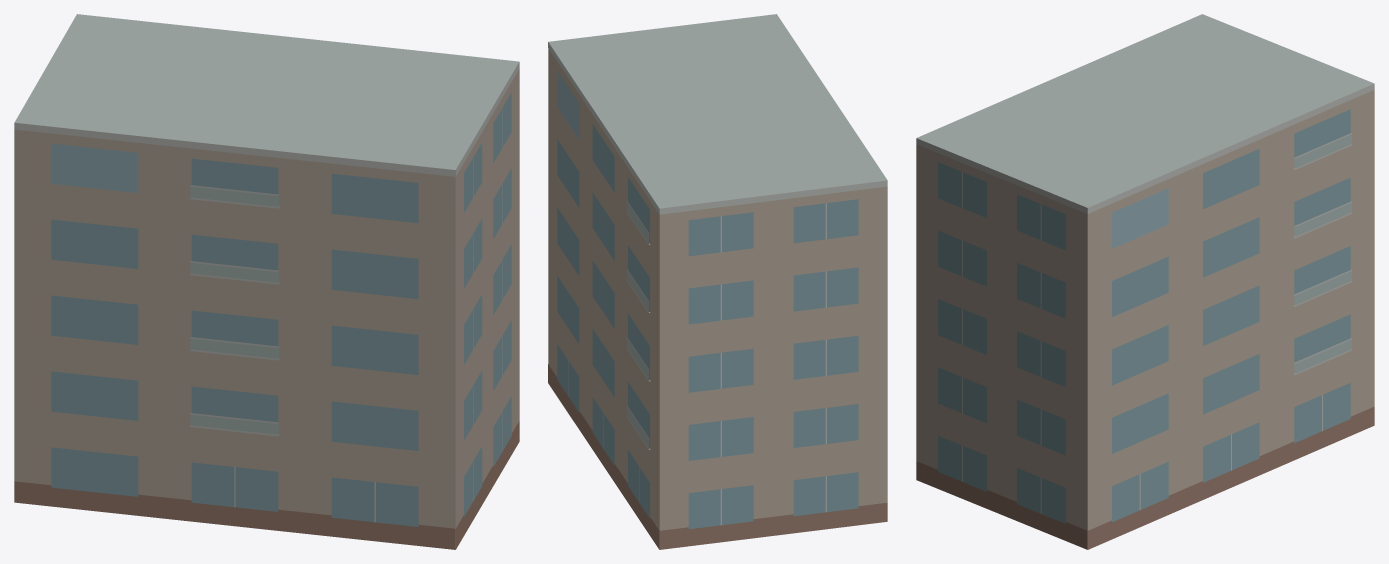
Rendered from survey-upis-32881795.glb.
3 views of the same model, side by side, from view 1: azimuth 30°, elevation 25°; view 2: azimuth 150°, elevation 25°; view 3: azimuth 270°, elevation 25° (orthographic). The views are drawn at different scales.
Visible parts, largest first — view 1: survey-upis-32881795.tmp; view 2: survey-upis-32881795.tmp; view 3: survey-upis-32881795.tmp.
Boxes of the visible parts, x1,y1,x2,y2 form: survey-upis-32881795.tmp: [14, 14, 519, 549]; survey-upis-32881795.tmp: [548, 14, 887, 549]; survey-upis-32881795.tmp: [916, 14, 1374, 549].
Bounding box in the file's own units: 16.68 × 13.7 × 16.65.
